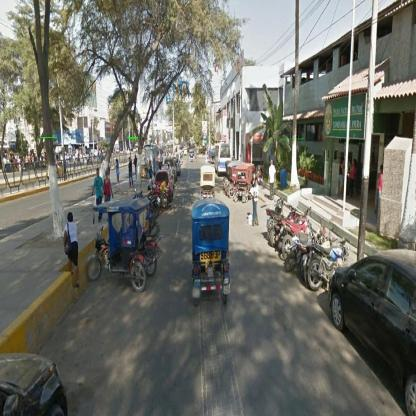Moto: (307, 234, 351, 292), (298, 223, 337, 279), (279, 208, 314, 258), (268, 206, 299, 250), (135, 187, 160, 220)
Peaton: (64, 213, 80, 291), (92, 172, 105, 221), (249, 180, 260, 227), (376, 165, 383, 217), (103, 172, 115, 201), (270, 160, 277, 201), (340, 159, 345, 199), (116, 159, 122, 186), (130, 158, 135, 188), (134, 156, 139, 181)
Pista: (32, 159, 406, 415), (1, 164, 141, 242)
Vehiculo: (330, 251, 416, 413), (84, 195, 160, 290), (194, 199, 230, 309), (1, 354, 69, 410), (234, 164, 254, 203), (216, 143, 234, 178), (155, 172, 175, 202), (201, 165, 217, 201), (163, 165, 175, 188)
